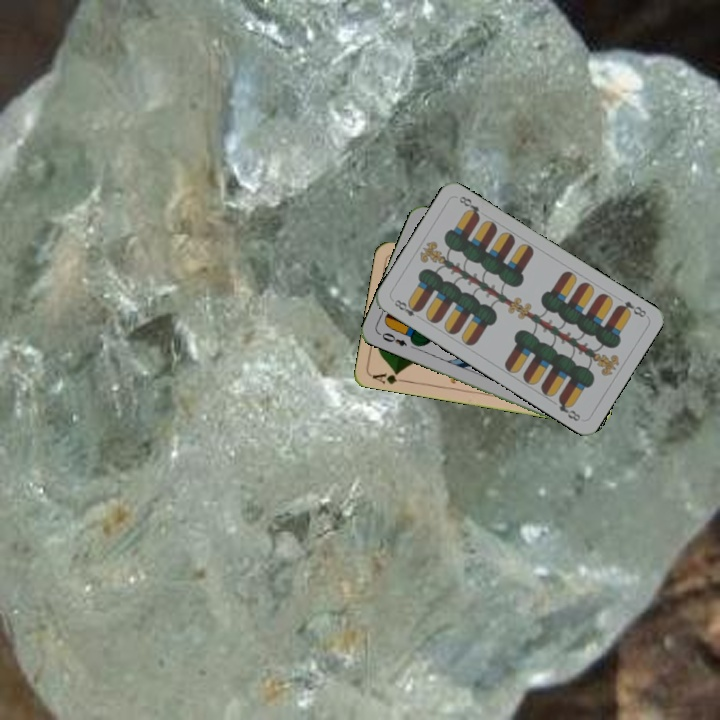E8: (613, 297, 649, 320), (390, 295, 423, 319)
EO: (375, 328, 410, 349)
GA: (368, 367, 409, 387)
